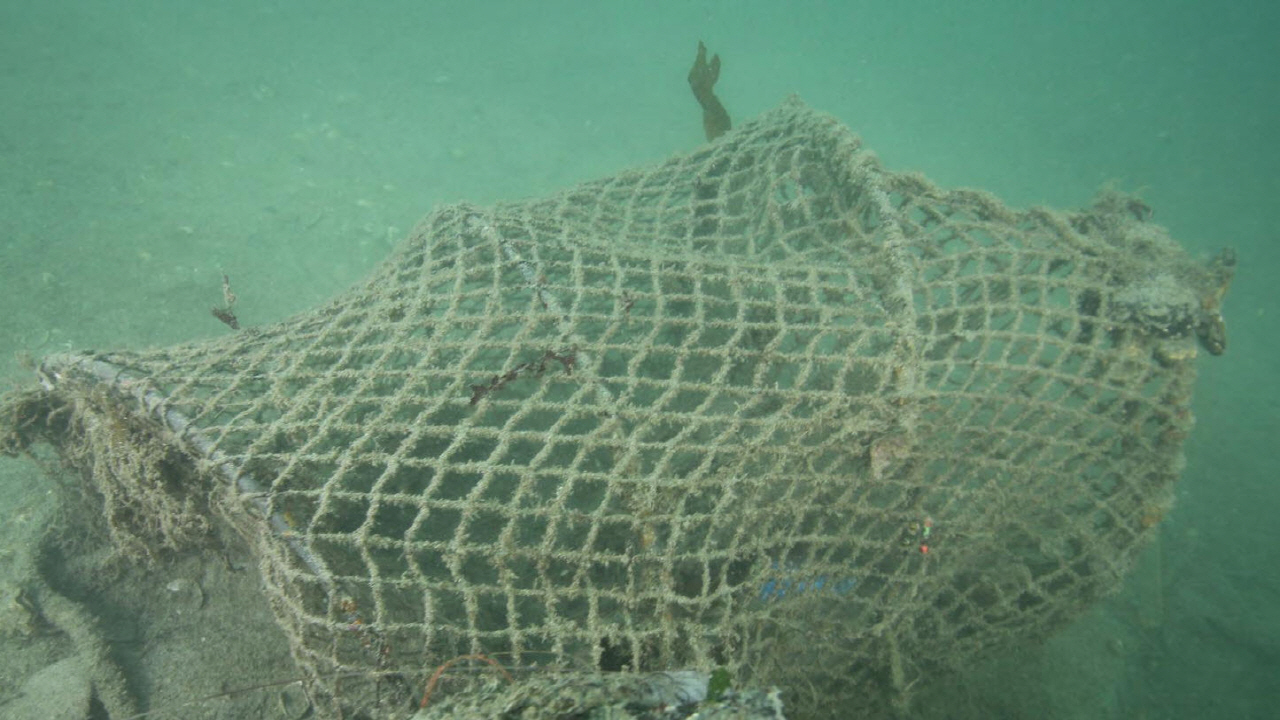spring fish trap: (38, 100, 1199, 720)
